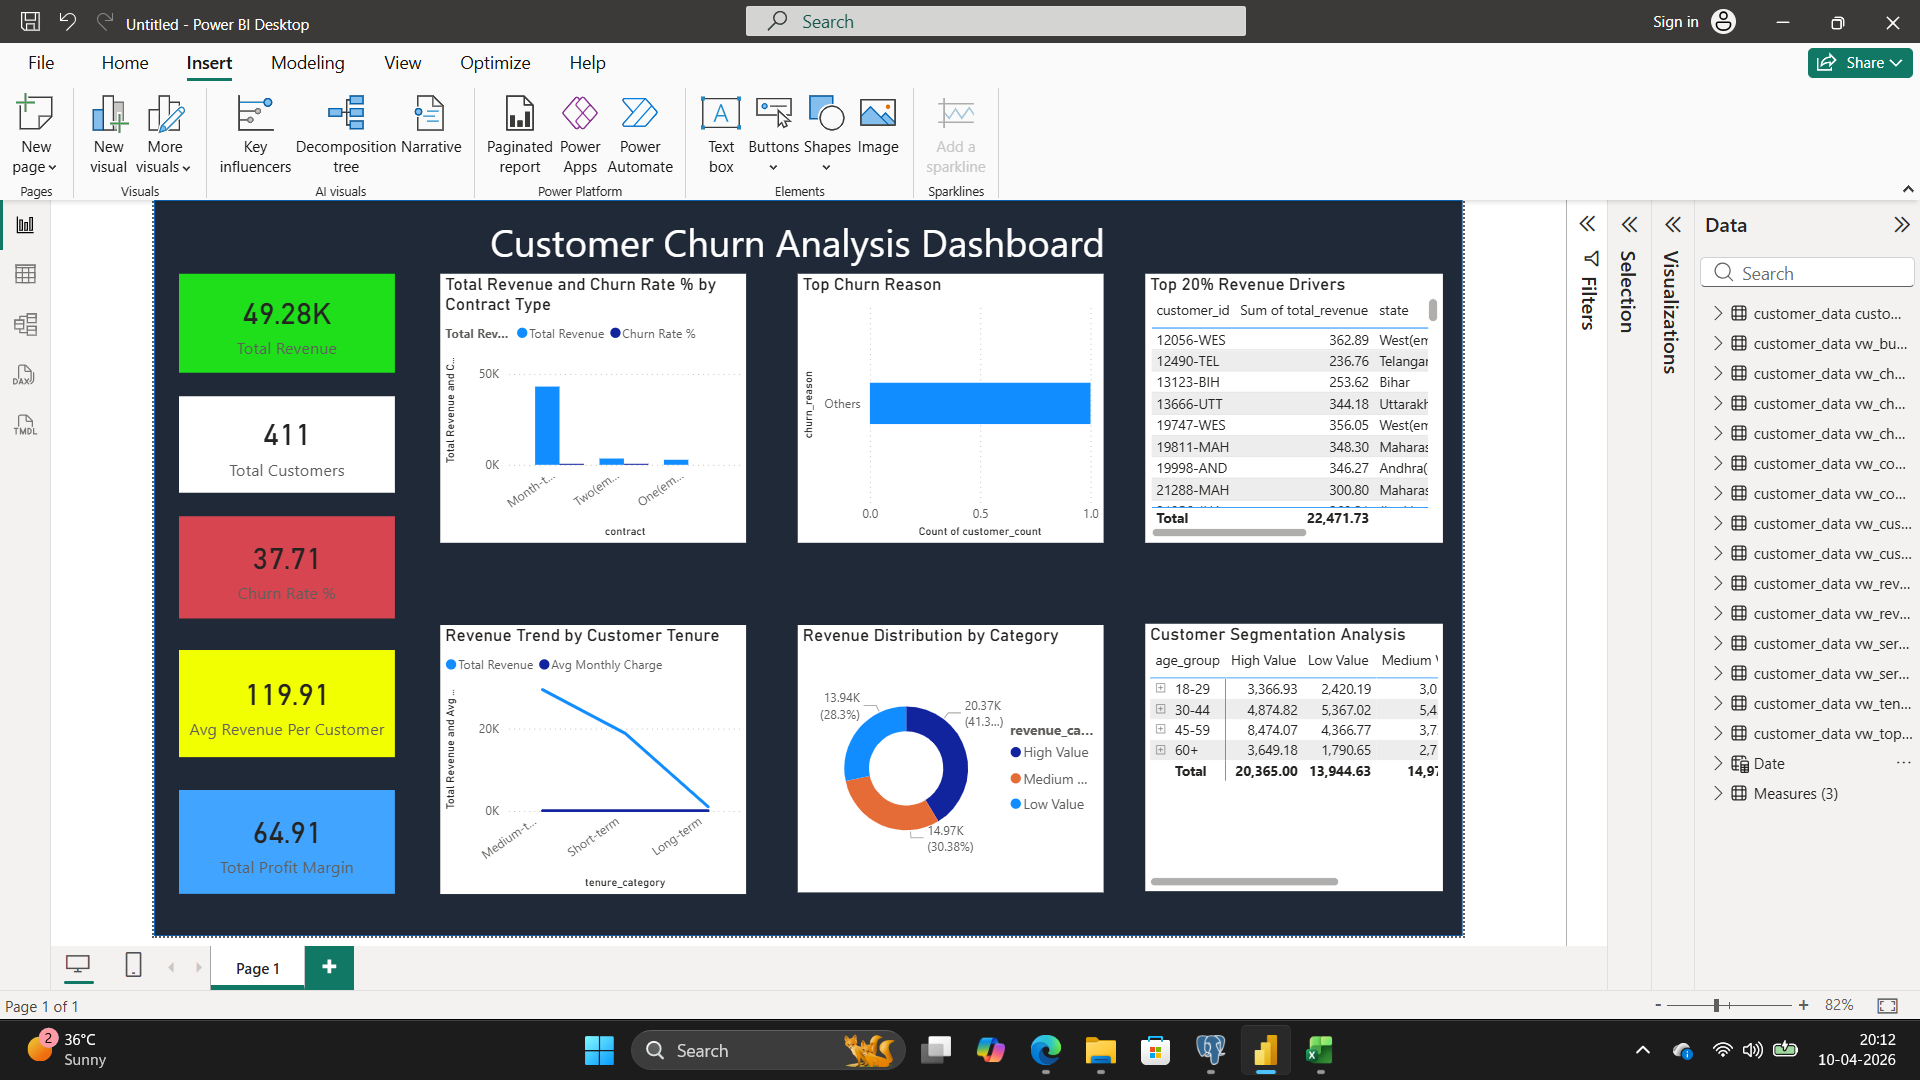

This screenshot's page, from the dashboard's own definition file:
{"tool":"powerbi","page":{"name":"Page 1","canvas":[1280,720],"ordinal":0},"visuals":[{"type":"tableEx","box":[1000.3,0,280,280],"z":0},{"type":"shape","box":[0,0,1280.3,720.2],"z":1000},{"type":"textbox","box":[324.1,11,633.4,61.1],"z":2000},{"type":"card","fields":{"Values":["Measures (3).Total Revenue"]},"box":[24.5,72.1,211.6,96.6],"z":3000},{"type":"card","fields":{"Values":["Measures (3).Total Customers"]},"box":[24.5,192,211.6,94.2],"z":4000},{"type":"card","fields":{"Values":["Measures (3).Churn Rate %"]},"box":[24.5,309.4,211.6,100.3],"z":5000},{"type":"card","fields":{"Values":["Measures (3).Avg Revenue Per Customer"]},"box":[24.5,440.2,211.6,105.2],"z":6000},{"type":"card","fields":{"Values":["Measures (3).Total Profit Margin"]},"box":[24.5,577.2,211.6,101.5],"z":7000},{"type":"clusteredColumnChart","title":"Total Revenue and Churn Rate % by Contract Type","fields":{"Category":["customer_data customer_churn.contract"],"Y":["Measures (3).Total Revenue","Measures (3).Churn Rate %"]},"box":[280,72.1,299.6,262.9],"z":8000},{"type":"lineChart","title":"Revenue Trend by Customer Tenure","fields":{"Category":["customer_data customer_churn.tenure_category"],"Y":["Measures (3).Total Revenue","Measures (3).Avg Monthly Charge"]},"box":[280,415.8,299.6,262.9],"z":9000},{"type":"barChart","title":"Top Churn Reason","fields":{"Category":["customer_data vw_churn_reasons.churn_reason"],"Y":["CountNonNull(customer_data vw_churn_reasons.customer_count)"]},"box":[629.8,72.1,299.6,262.9],"z":10000},{"type":"tableEx","title":"Top 20% Revenue Drivers","fields":{"Values":["customer_data vw_top_revenue_drivers.customer_id","Sum(customer_data vw_top_revenue_drivers.total_revenue)","customer_data vw_top_revenue_drivers.state","customer_data vw_top_revenue_drivers.contract"]},"box":[969.7,72.1,291,262.9],"z":10001},{"type":"donutChart","title":"Revenue Distribution by Category","fields":{"Category":["customer_data customer_churn.revenue_category"],"Y":["Measures (3).Total Revenue"]},"box":[629.8,415.8,299.6,261.7],"z":10002},{"type":"pivotTable","title":"Customer Segmentation Analysis","fields":{"Rows":["customer_data customer_churn.age_group","customer_data customer_churn.gender"],"Columns":["customer_data customer_churn.revenue_category"],"Values":["Measures (3).Total Revenue"]},"box":[969.7,414.5,291,261.7],"z":10003}]}

Visuals, with their boxes on the page's 1280x720 design canvas (x1, y1, x2, y2). These are canvas units, not pixel positions in the 1920x1080 screenshot, which may show the page scaled, cropped or inside an application window:
tableEx: pyautogui.locateOnScreen(1000, 0, 1280, 280)
shape: pyautogui.locateOnScreen(0, 0, 1280, 720)
textbox: pyautogui.locateOnScreen(324, 11, 958, 72)
card - Measures (3).Total Revenue: pyautogui.locateOnScreen(24, 72, 236, 169)
card - Measures (3).Total Customers: pyautogui.locateOnScreen(24, 192, 236, 286)
card - Measures (3).Churn Rate %: pyautogui.locateOnScreen(24, 309, 236, 410)
card - Measures (3).Avg Revenue Per Customer: pyautogui.locateOnScreen(24, 440, 236, 545)
card - Measures (3).Total Profit Margin: pyautogui.locateOnScreen(24, 577, 236, 679)
"Total Revenue and Churn Rate % by Contract Type" clusteredColumnChart: pyautogui.locateOnScreen(280, 72, 580, 335)
"Revenue Trend by Customer Tenure" lineChart: pyautogui.locateOnScreen(280, 416, 580, 679)
"Top Churn Reason" barChart: pyautogui.locateOnScreen(630, 72, 929, 335)
"Top 20% Revenue Drivers" tableEx: pyautogui.locateOnScreen(970, 72, 1261, 335)
"Revenue Distribution by Category" donutChart: pyautogui.locateOnScreen(630, 416, 929, 678)
"Customer Segmentation Analysis" pivotTable: pyautogui.locateOnScreen(970, 414, 1261, 676)
